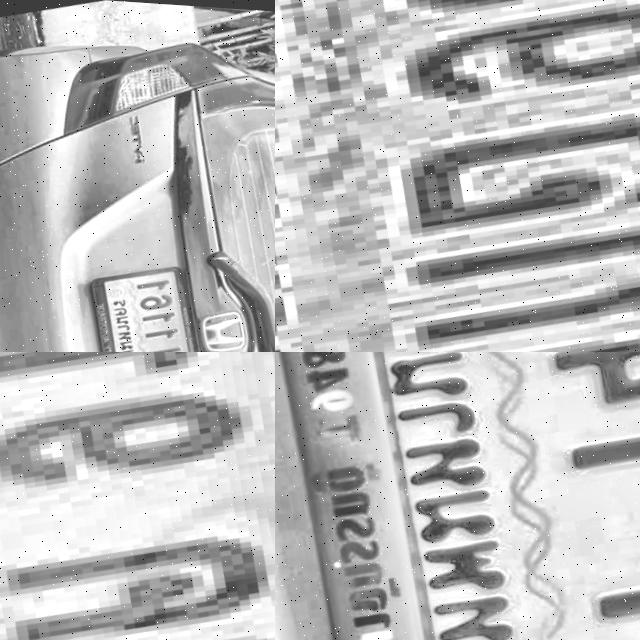license-plate: (275, 0, 640, 352), (275, 352, 640, 640), (0, 352, 275, 640), (81, 252, 219, 352)
